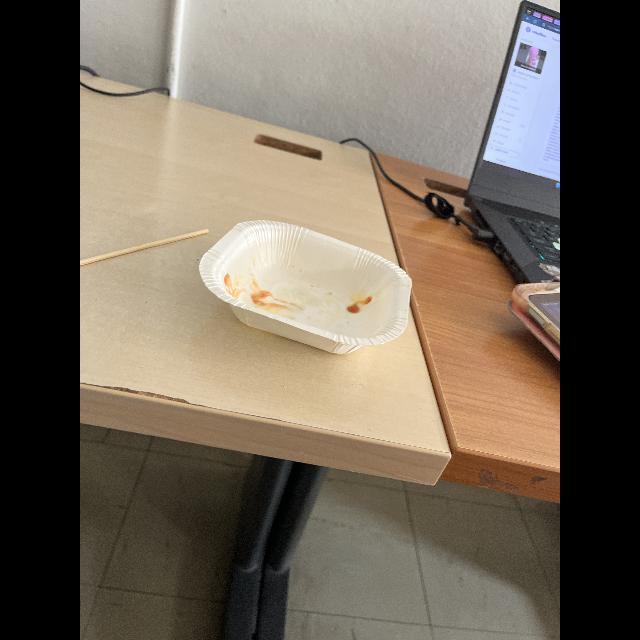cardboard_bowl: (198, 216, 418, 360)
stick: (80, 226, 214, 264)
